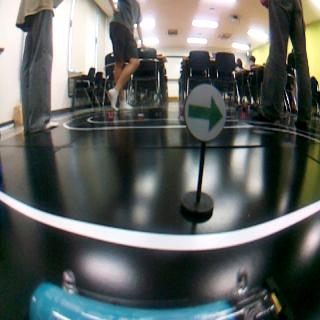right: (185, 83, 228, 141)
